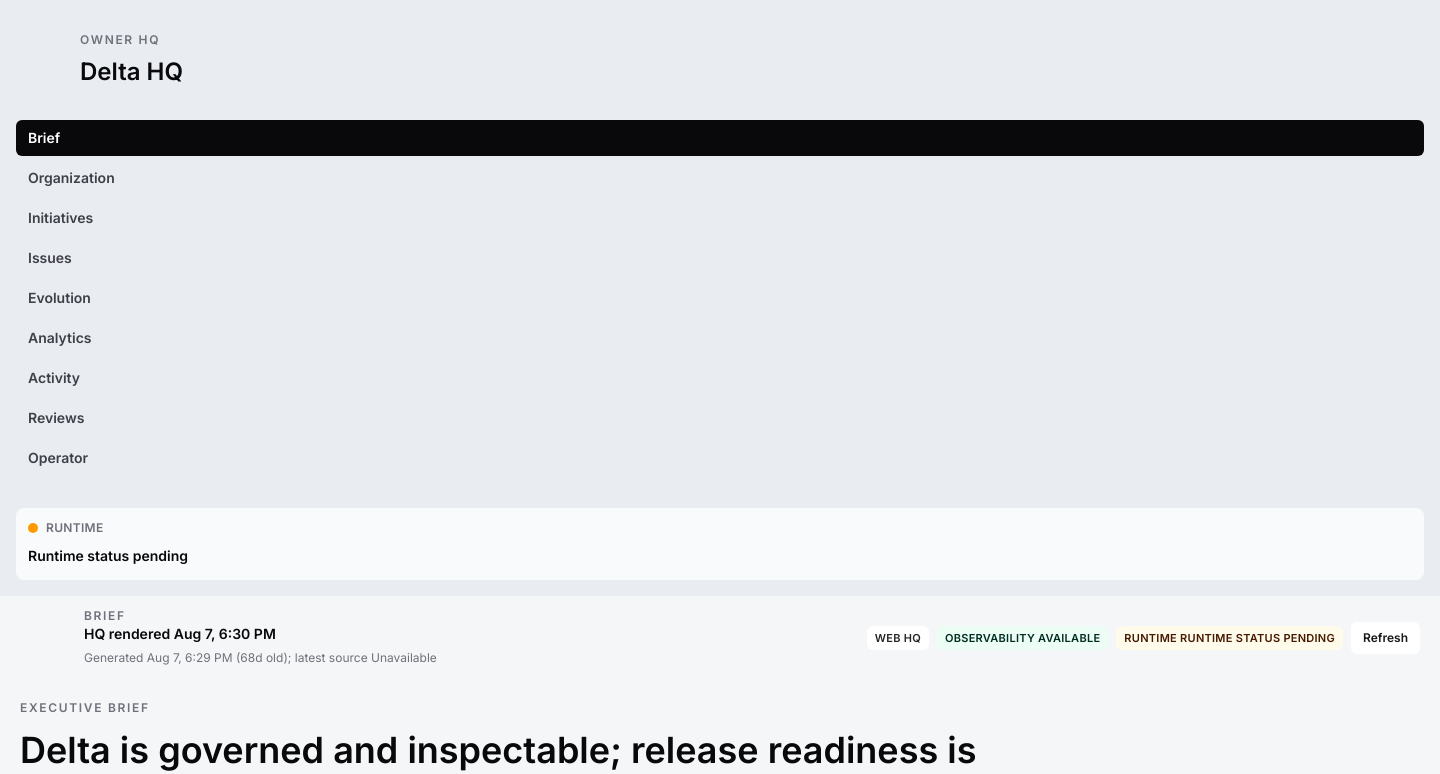
Scenario: DeltaHQ live Analytics UI › disables Operator runtime controls in the browser HQ shell
This screenshot has width=1440, height=774.
Click the button "Operator" at (58, 458), box [16,440,1424,476]
(page scrolled)
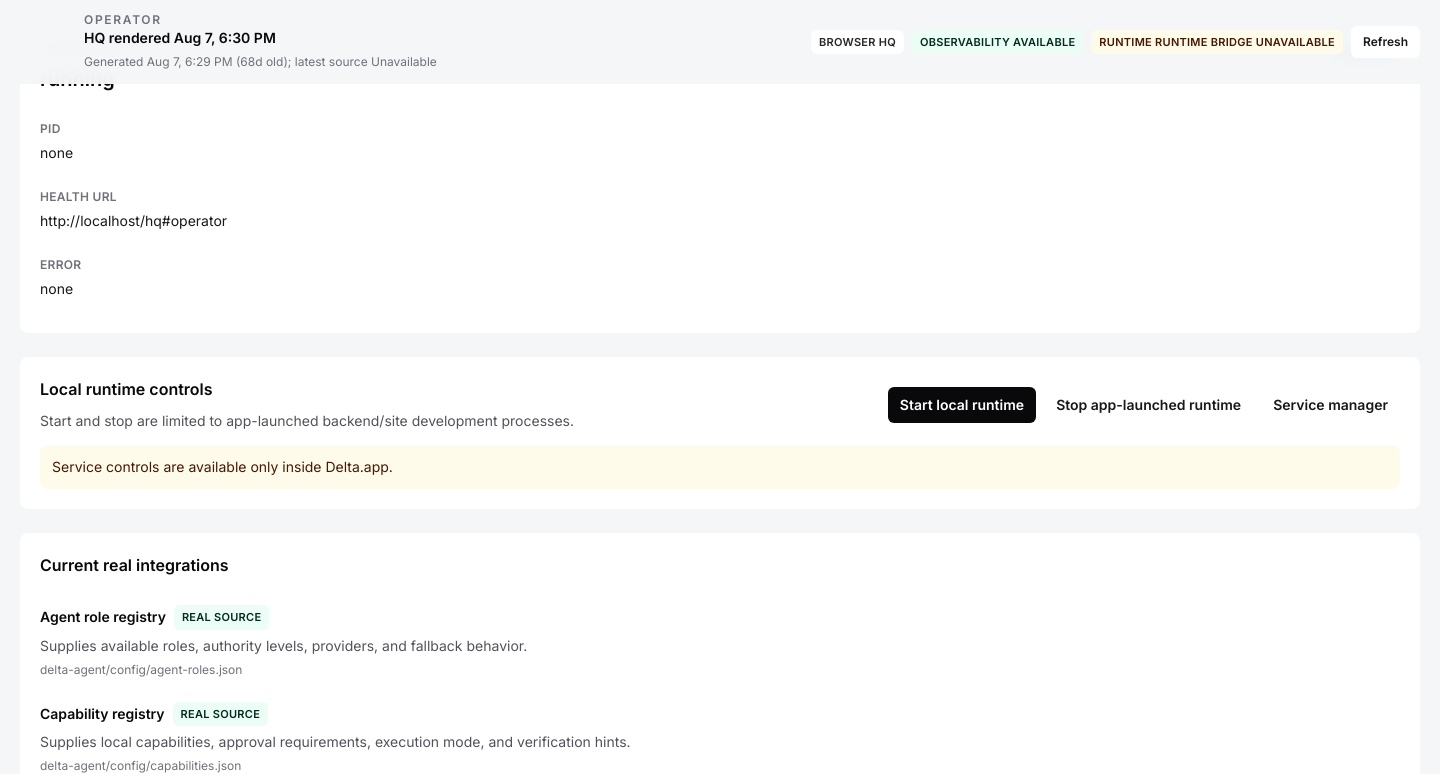
Check: the text "Service controls are available only inside Delta.app." is shown, box [40,445,1400,489]
Check: the button "Start local runtime" is disabled, box [888,387,1036,423]
Check: the button "Stop app-launched runtime" is disabled, box [1044,387,1253,423]
